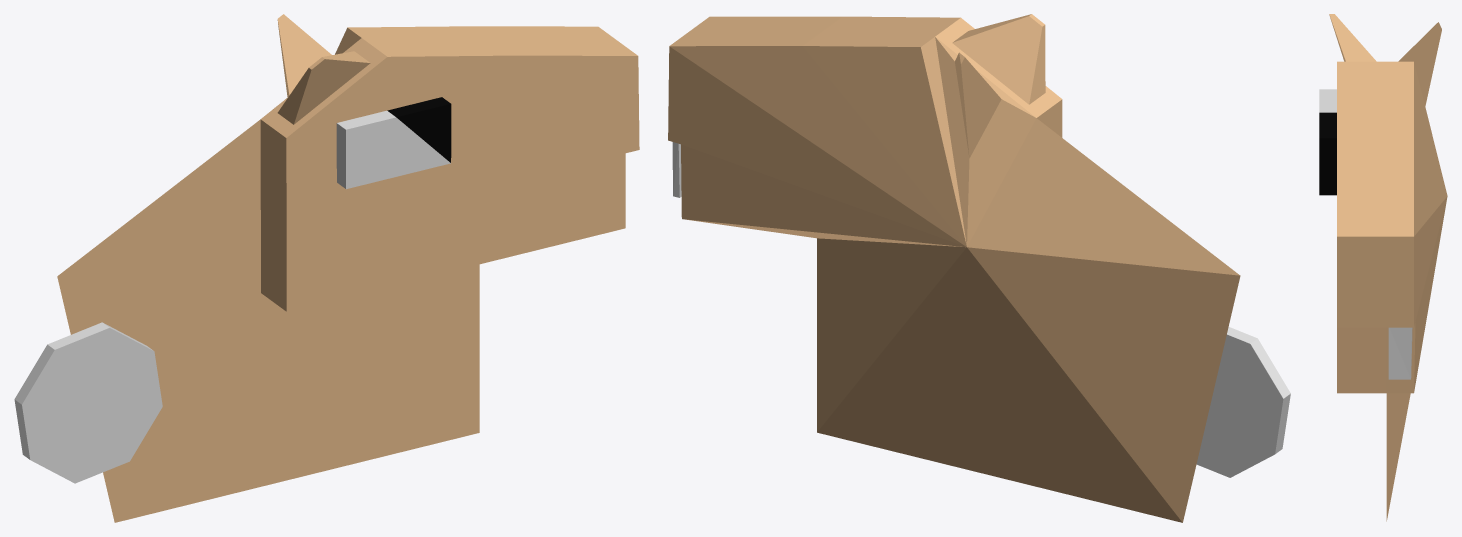
The model's file is cabybara  Body.fbx.
The picture shows the model from 3 angles, left to right: view 1: azimuth 30°, elevation 25°; view 2: azimuth 150°, elevation 25°; view 3: azimuth 270°, elevation 25°; orthographic projection. The views are drawn at different scales.
Visible parts, largest first — view 1: Cube; view 2: Cube; view 3: Cube.
Boxes of the visible parts, left/top/right/bottom form: Cube: left=14, top=14, right=639, bottom=522; Cube: left=668, top=14, right=1290, bottom=522; Cube: left=1319, top=14, right=1447, bottom=521.
Bounding box in the file's own units: 735 × 517 × 142.
